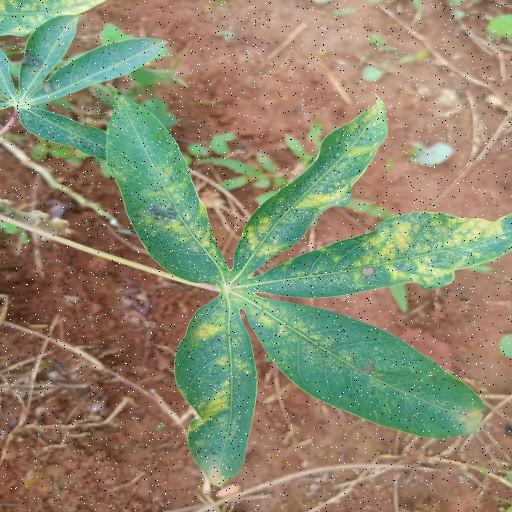Cassava_Mosaic: (97, 86, 512, 499)
